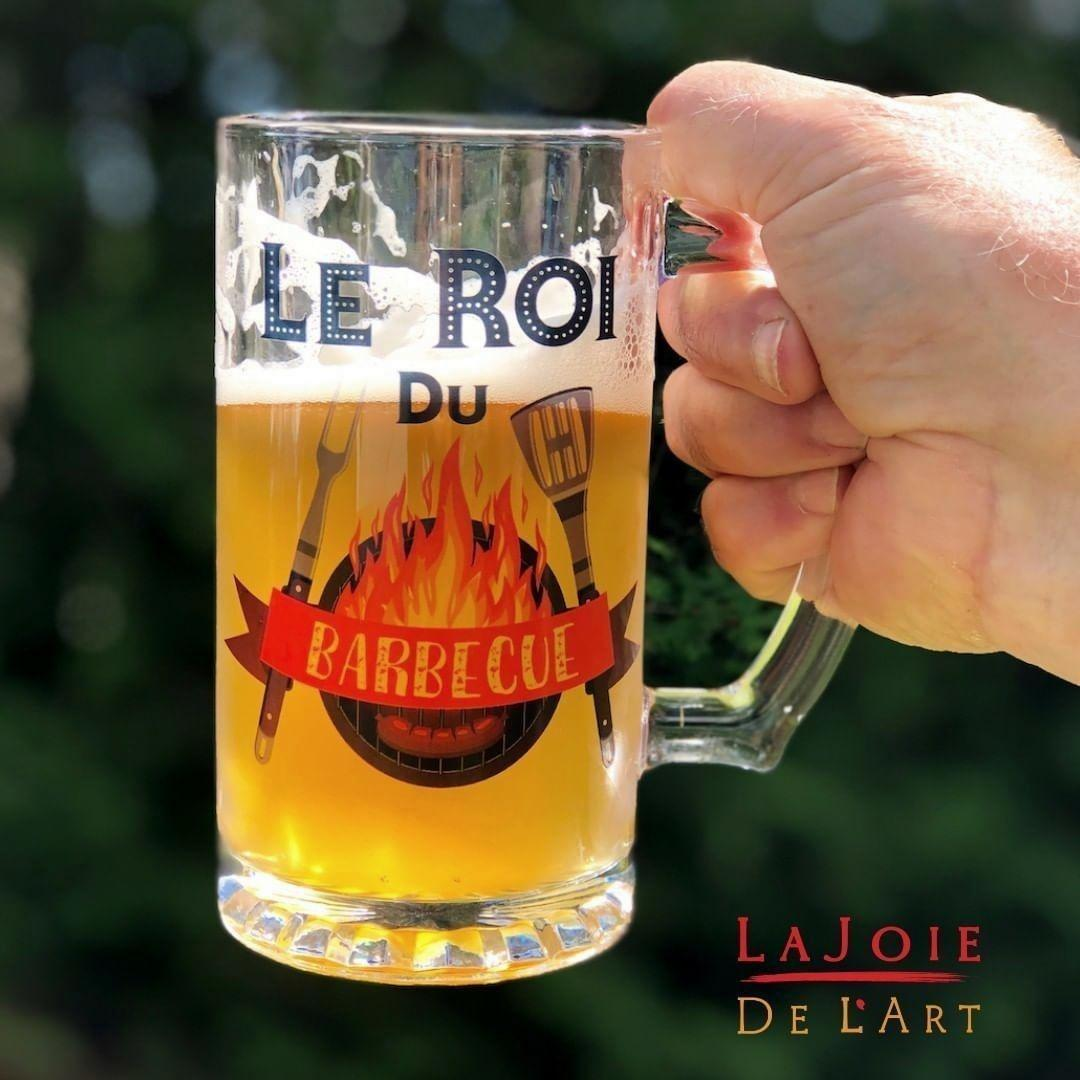glass-mug: (174, 77, 868, 998)
